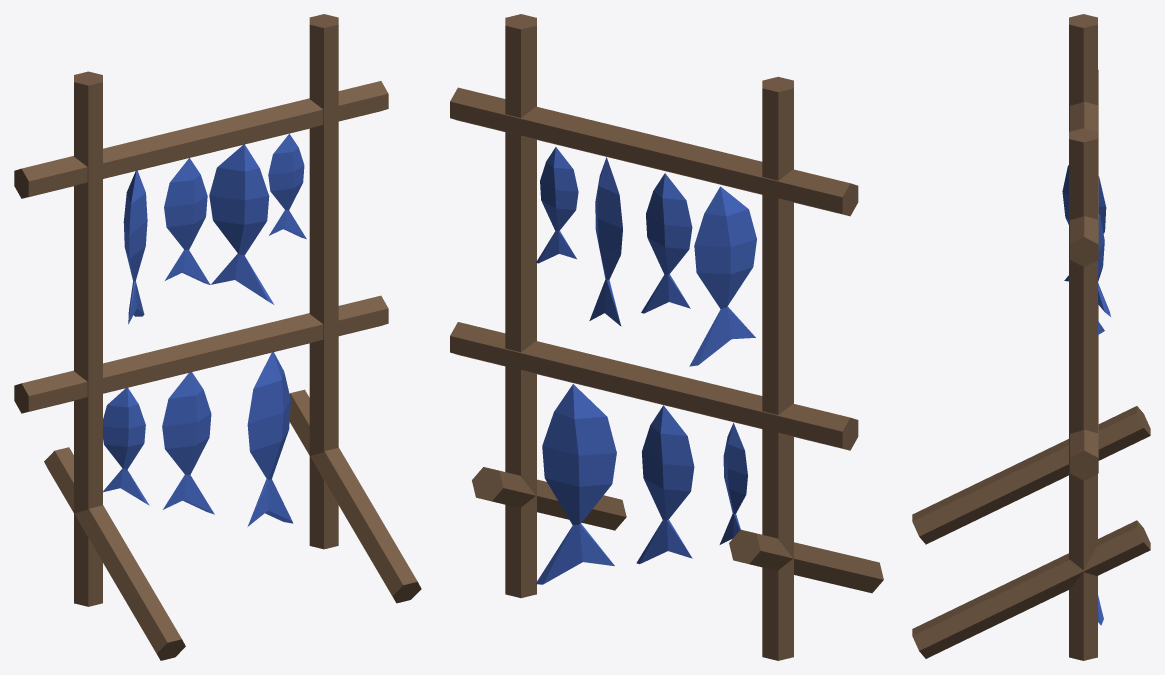
Rendered from sechoir_2.fbx.
3 renders of one model, left to right at view 1: azimuth 30°, elevation 25°; view 2: azimuth 150°, elevation 25°; view 3: azimuth 270°, elevation 25°, orthographic. The views are drawn at different scales.
Parts seen in each view (by area): view 1: pCylinder3, pCylinder2, pCylinder4, pCylinder5, pCylinder7, pCylinder6, poisson5, poisson2, poisson7, poisson4, poisson3, poisson6 (+1 smaller); view 2: pCylinder3, pCylinder2, pCylinder4, pCylinder5, poisson2, poisson1, poisson7, pCylinder7, poisson4, pCylinder6, poisson5, poisson6 (+1 smaller); view 3: pCylinder3, pCylinder6, pCylinder7, pCylinder2, pCylinder4, pCylinder5, poisson1, poisson5.
Boxes of the visible parts, <box> form: pCylinder3: <box>309,14,338,549</box>; pCylinder2: <box>74,71,102,606</box>; pCylinder4: <box>14,81,388,198</box>; pCylinder5: <box>14,295,388,413</box>; pCylinder7: <box>44,447,185,660</box>; pCylinder6: <box>289,389,421,603</box>; poisson5: <box>209,144,274,304</box>; poisson2: <box>247,352,293,526</box>; poisson7: <box>162,372,214,514</box>; poisson4: <box>164,158,210,284</box>; poisson3: <box>103,388,149,505</box>; poisson6: <box>268,133,306,239</box>; pCylinder3: <box>505,14,536,598</box>; pCylinder2: <box>762,76,793,660</box>; pCylinder4: <box>450,87,858,216</box>; pCylinder5: <box>450,322,858,450</box>; poisson2: <box>535,384,616,584</box>; poisson1: <box>689,186,756,366</box>; poisson7: <box>636,405,694,564</box>; pCylinder7: <box>729,529,883,593</box>; poisson4: <box>641,173,692,313</box>; pCylinder6: <box>472,467,626,530</box>; poisson5: <box>589,157,622,326</box>; poisson6: <box>536,147,578,263</box>; pCylinder3: <box>1069,128,1097,660</box>; pCylinder6: <box>912,520,1150,658</box>; pCylinder7: <box>912,406,1150,544</box>; pCylinder2: <box>1069,14,1097,131</box>; pCylinder4: <box>1070,69,1098,266</box>; pCylinder5: <box>1070,304,1098,480</box>; poisson1: <box>1062,165,1110,316</box>; poisson5: <box>1098,214,1104,334</box>.
Size of the model in its own units: 1.29 by 1.79 by 0.7433.
